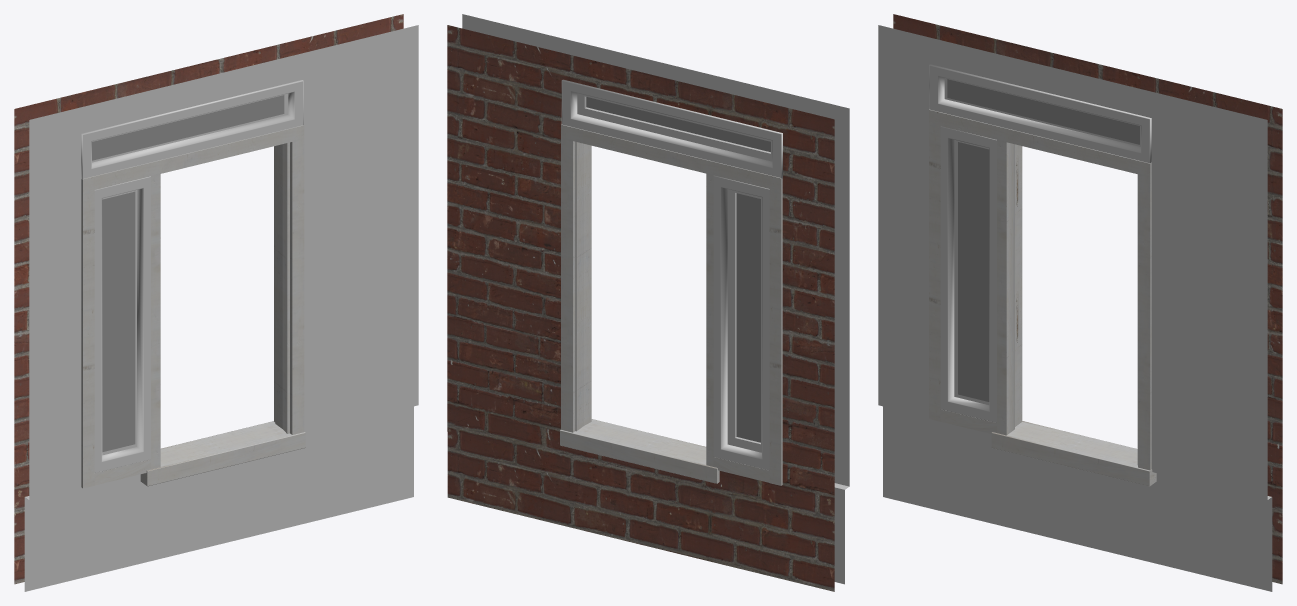
Rendered from In_Wall_Door_Single_C_3x.FBX.
The picture shows the model from 3 angles, left to right: view 1: azimuth 30°, elevation 25°; view 2: azimuth 150°, elevation 25°; view 3: azimuth 330°, elevation 25°; orthographic projection.
Parts seen in each view (by area): view 1: Wall_Door_Single_C_3x; view 2: Wall_Door_Single_C_3x; view 3: Wall_Door_Single_C_3x.
Part boxes in pixels (x1=…): Wall_Door_Single_C_3x: x1=14, y1=14, x2=418, y2=591; Wall_Door_Single_C_3x: x1=447, y1=14, x2=849, y2=591; Wall_Door_Single_C_3x: x1=878, y1=14, x2=1282, y2=591.
Size of the model in its own units: 300 by 350 by 26.39.
